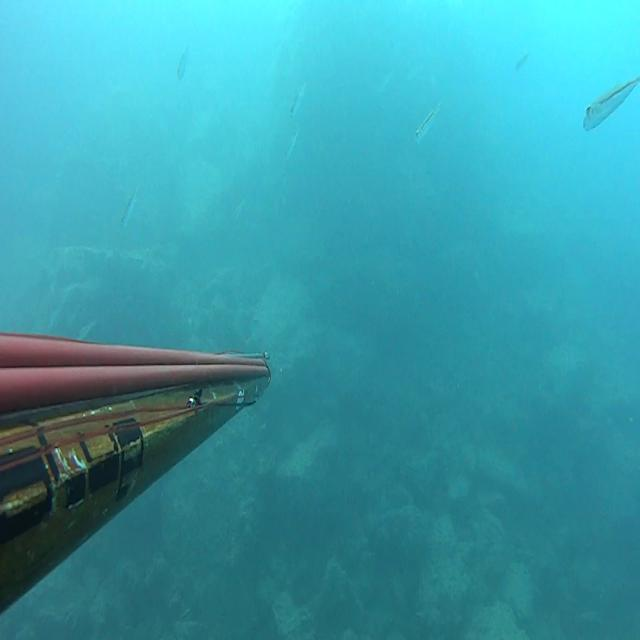Balon Baligi: (583, 76, 640, 132), (415, 102, 442, 145), (121, 184, 138, 228), (290, 79, 306, 120), (177, 41, 190, 80), (285, 129, 299, 161), (77, 320, 96, 341), (516, 53, 528, 70)
